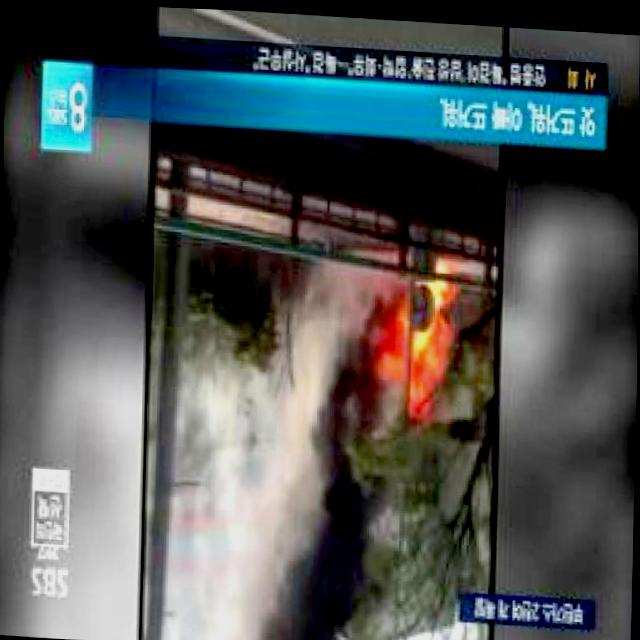helmet: (374, 248, 463, 411)
no_helmet: (170, 250, 378, 640)
